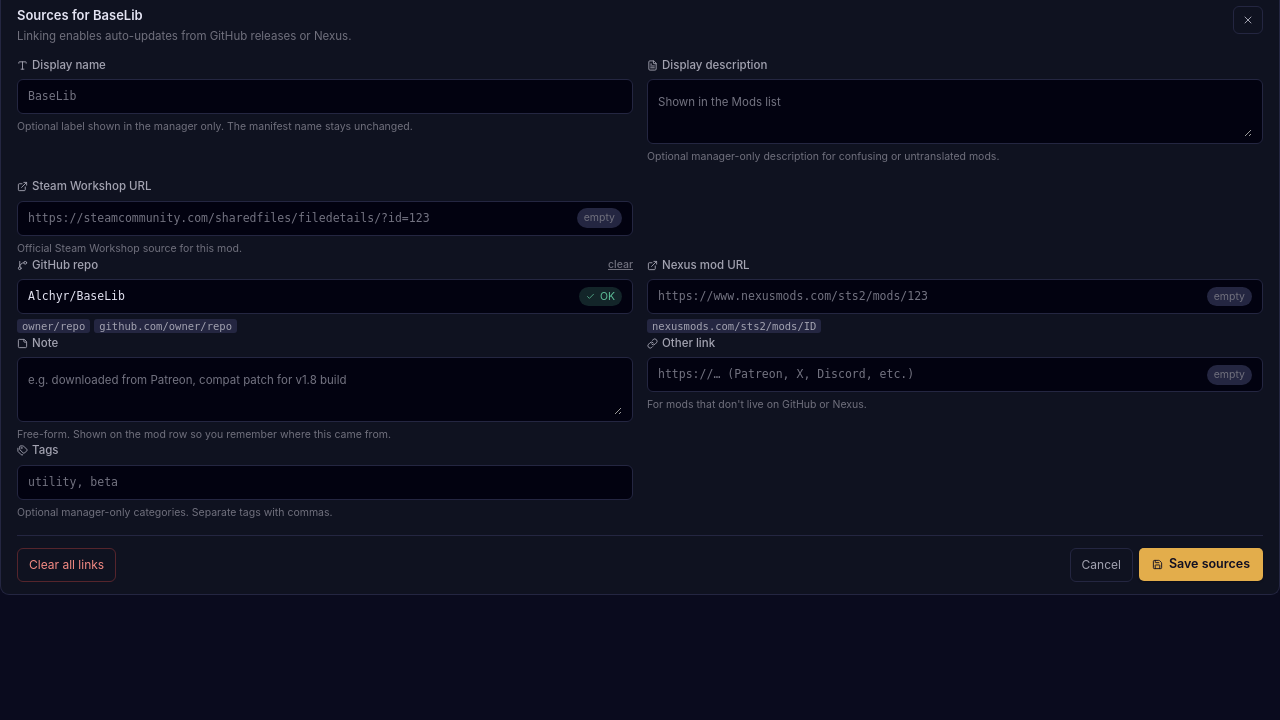
<SourceEditor> › clear button next to GitHub clears the field
Click the button "clear" at (620, 265), box [608, 257, 633, 273]
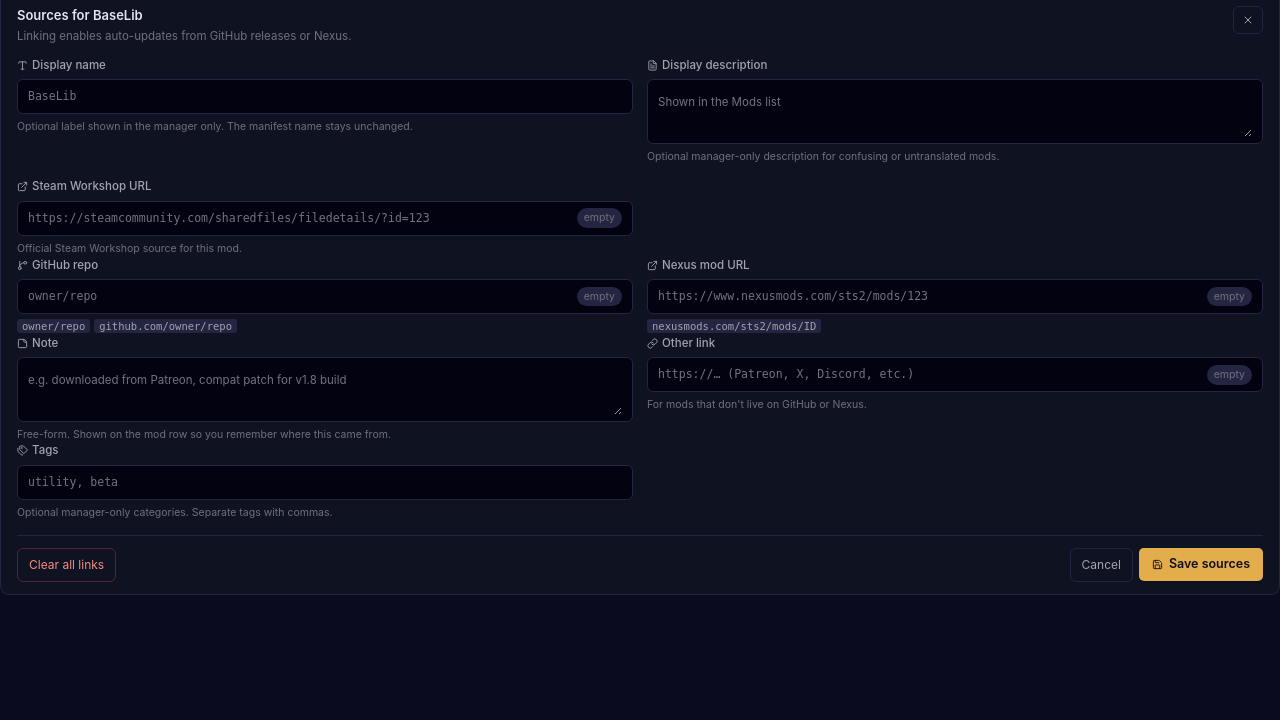
Check: the field with placeholder "owner/repo" is empty, box [28, 280, 569, 313]
